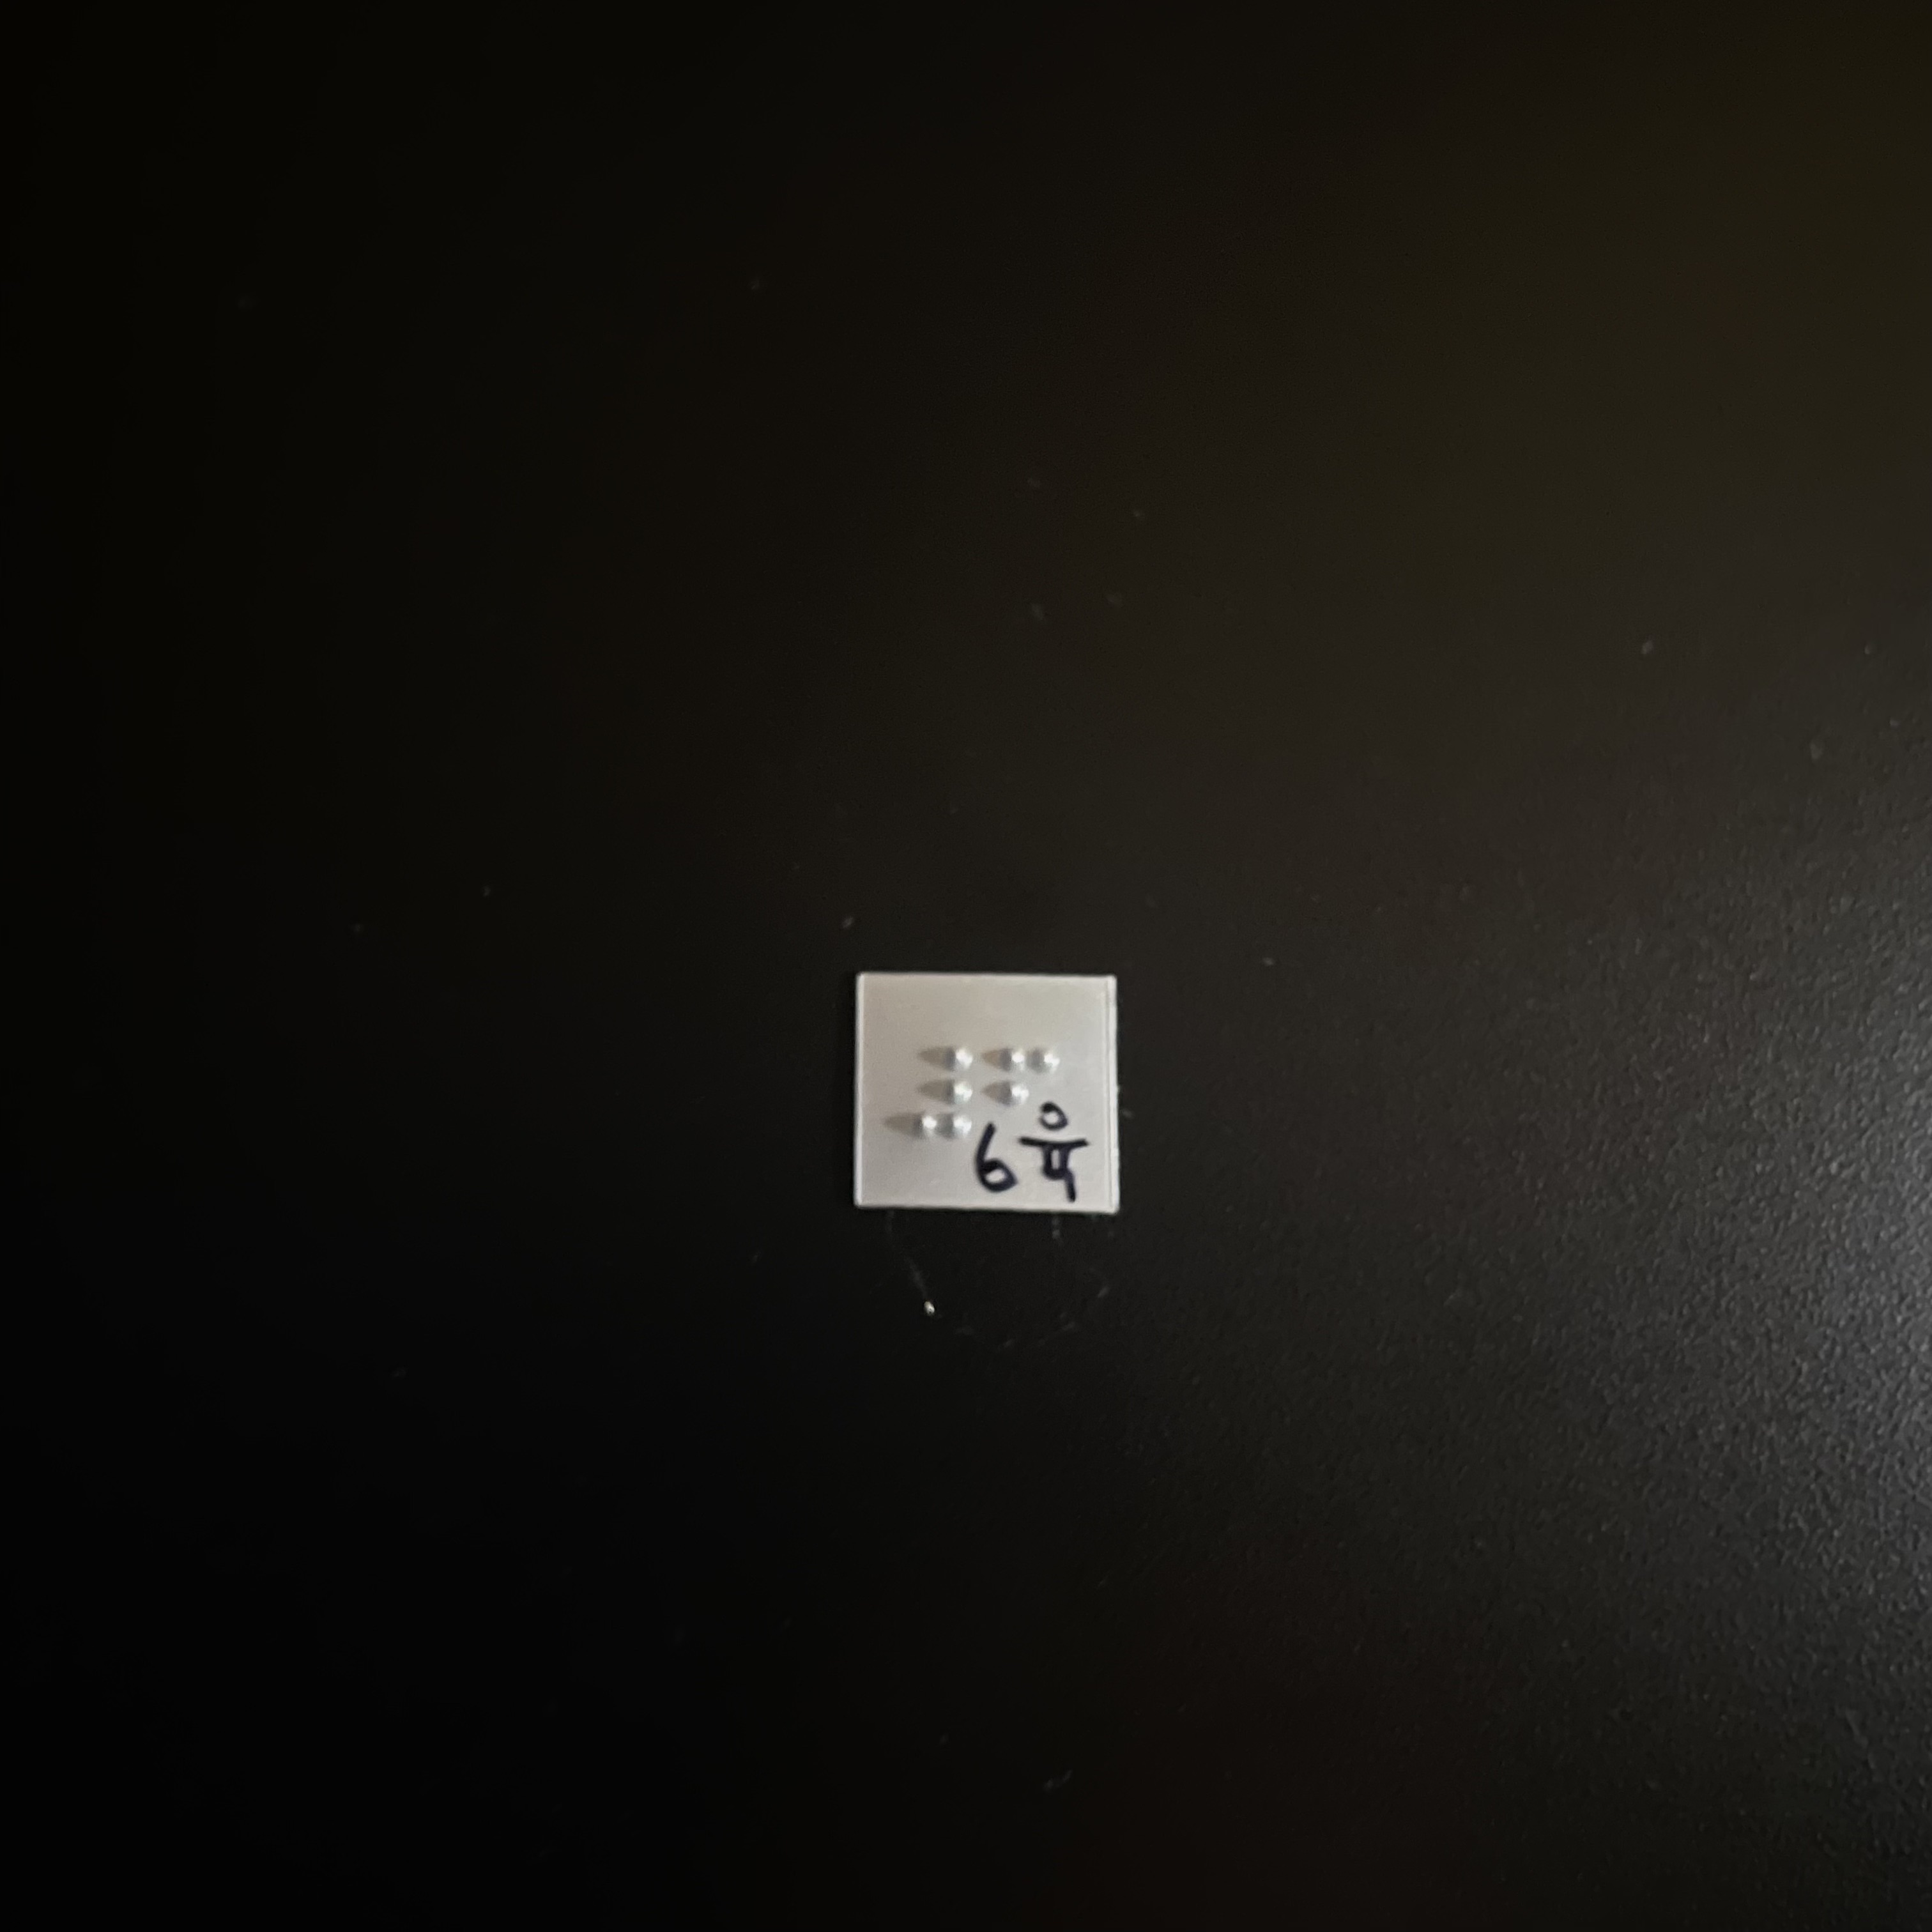#: (897, 1044, 979, 1147)
f: (988, 1044, 1073, 1158)
